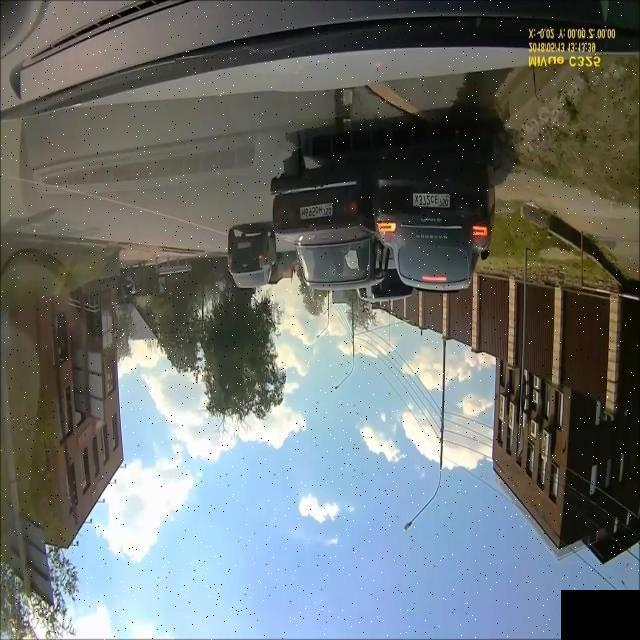vehicle: (246, 120, 510, 322)
